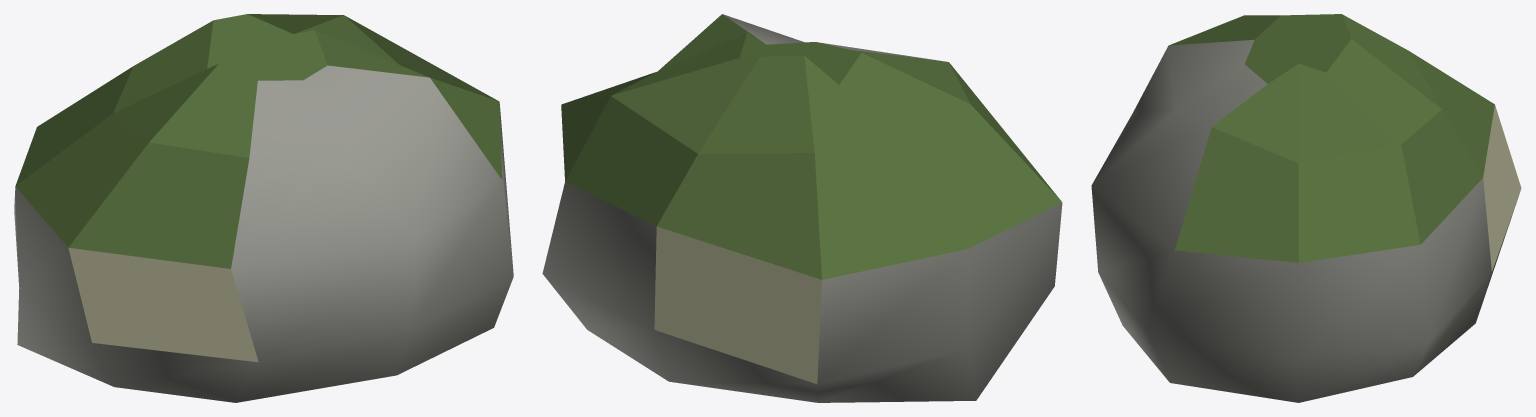
The model's file is boulder-round.glb.
3 renders of one model, left to right at view 1: azimuth 30°, elevation 25°; view 2: azimuth 150°, elevation 25°; view 3: azimuth 270°, elevation 25°, orthographic. The views are drawn at different scales.
Parts seen in each view (by area): view 1: prop_boulder-round_LOD0; view 2: prop_boulder-round_LOD0; view 3: prop_boulder-round_LOD0.
Part boxes in pixels (<box>): prop_boulder-round_LOD0: <box>14,14,513,402</box>; prop_boulder-round_LOD0: <box>542,14,1062,402</box>; prop_boulder-round_LOD0: <box>1091,14,1521,402</box>.
Bounding box in the file's own units: 2.12 × 1.26 × 1.77.
